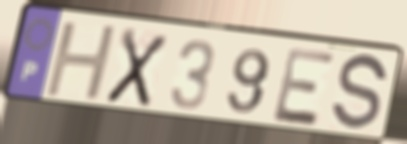3: (169, 38, 216, 112)
9: (224, 47, 273, 115)
E: (270, 45, 339, 129)
H: (41, 21, 121, 103)
S: (328, 52, 391, 135)
X: (102, 25, 171, 111)
